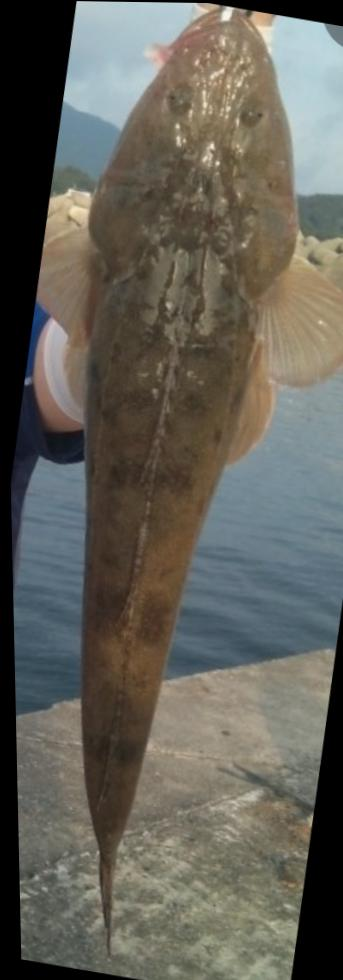fish: (33, 3, 343, 956)
